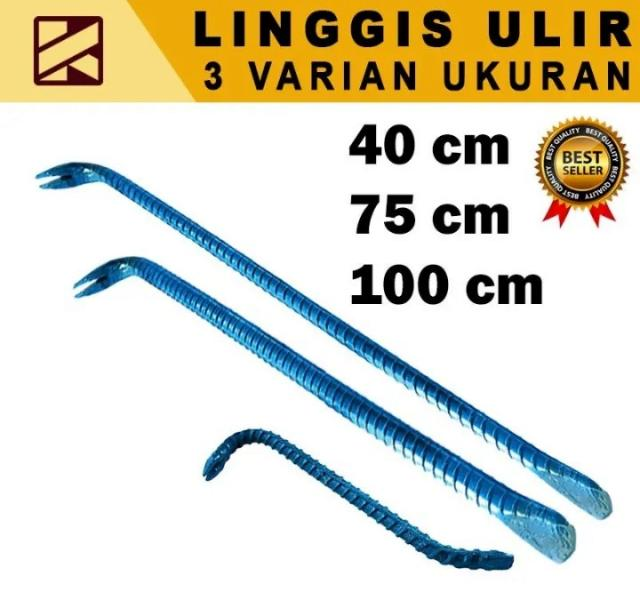crow bar: (33, 167, 618, 523), (71, 249, 584, 572), (200, 422, 516, 573)
